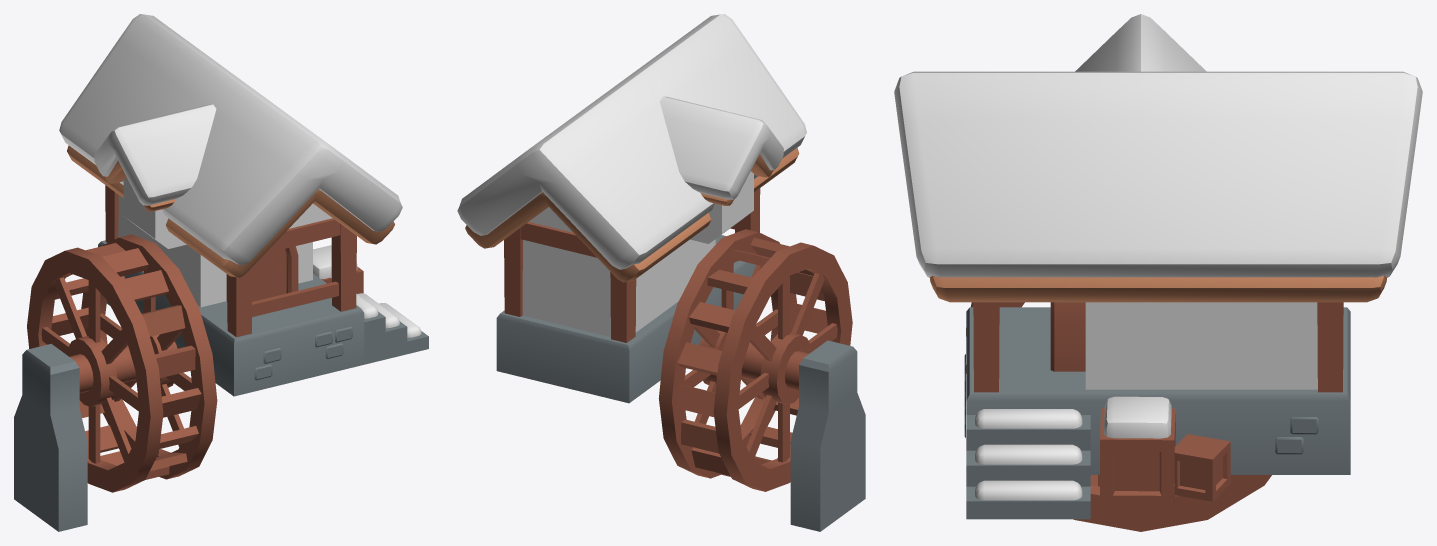
The model's file is watermill_snow.gltf.glb.
3 views of the same model, side by side, from view 1: azimuth 30°, elevation 25°; view 2: azimuth 150°, elevation 25°; view 3: azimuth 270°, elevation 25° (orthographic). The views are drawn at different scales.
Parts seen in each view (by area): view 1: watermill_snow, watermill_wheel_snow; view 2: watermill_snow, watermill_wheel_snow; view 3: watermill_snow, watermill_wheel_snow.
Boxes of the visible parts, bbox=[...] form: watermill_snow: bbox=[14, 14, 428, 531]; watermill_wheel_snow: bbox=[27, 234, 217, 492]; watermill_snow: bbox=[457, 14, 865, 531]; watermill_wheel_snow: bbox=[658, 229, 852, 491]; watermill_snow: bbox=[894, 14, 1422, 519]; watermill_wheel_snow: bbox=[966, 302, 1271, 531].
Bounding box in the file's own units: 1.53 × 1.7 × 1.5.
